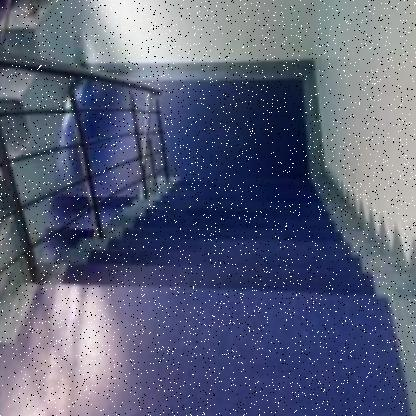stair_down: (54, 210, 407, 351)
